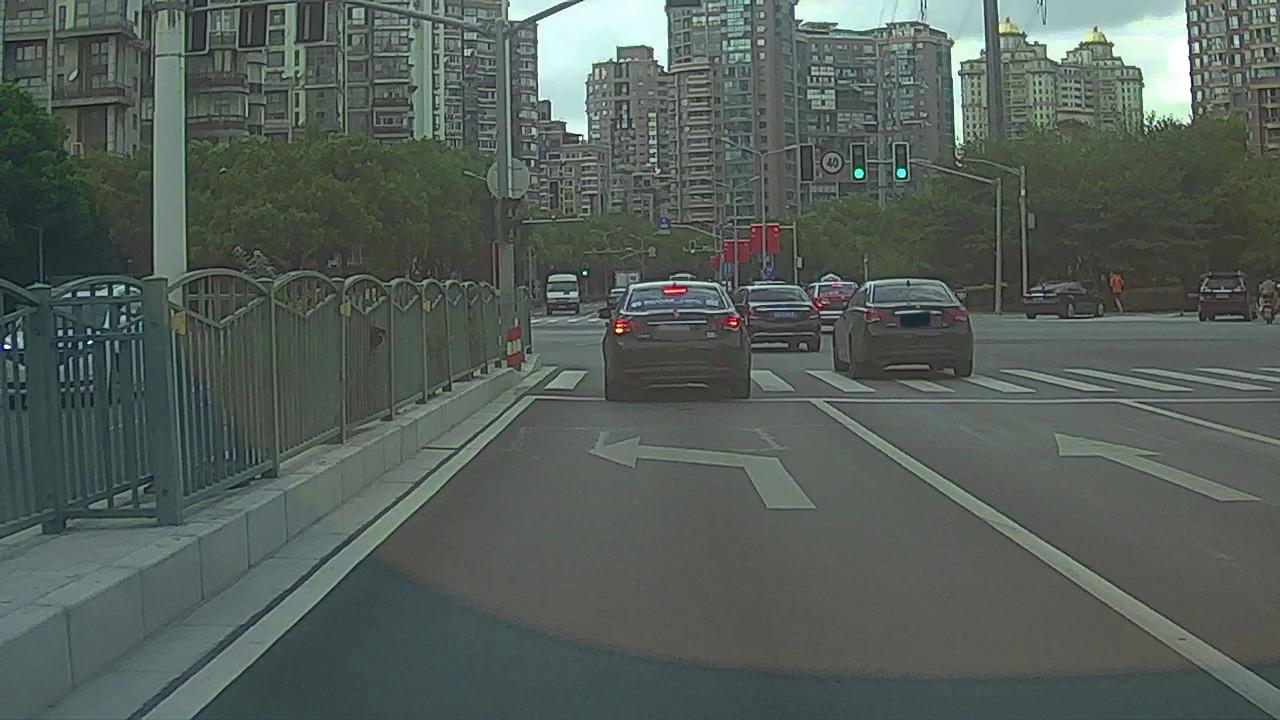traffic_light: (851, 144, 866, 182), (894, 144, 908, 180), (800, 146, 813, 182)
